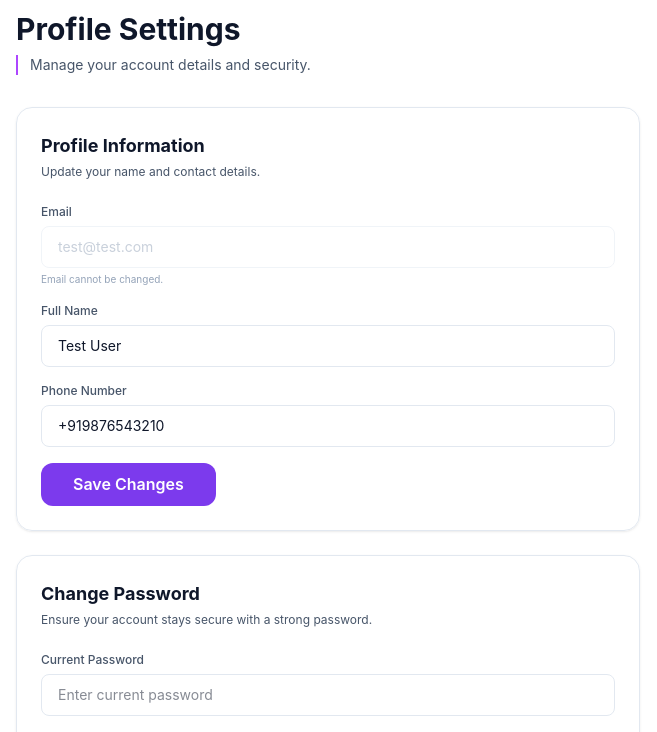
Test: ProfilePage (Settings) › shows error message on profile update failure
The image size is (657, 732).
Click the button "Save Changes".
click(128, 484)  # box [41, 463, 216, 506]
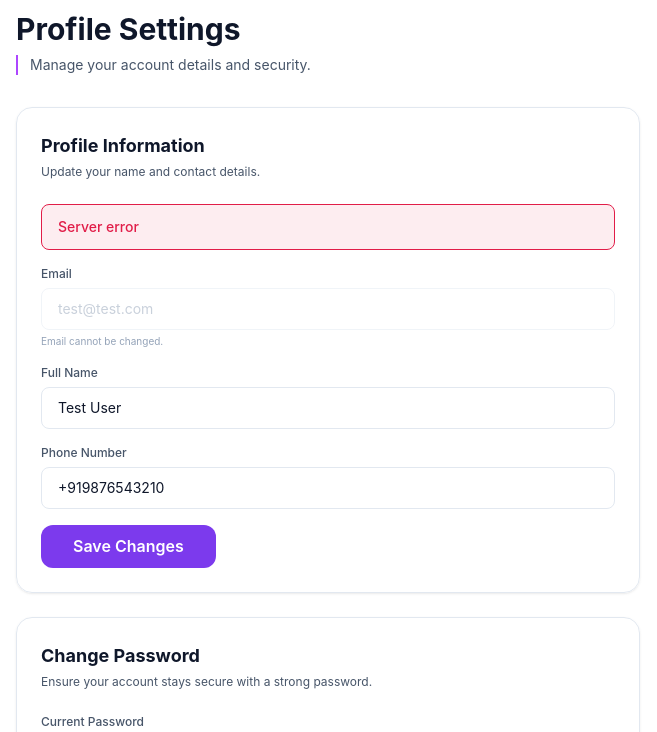
expect the text "Server error" is shown: met, box [41, 204, 615, 250]
